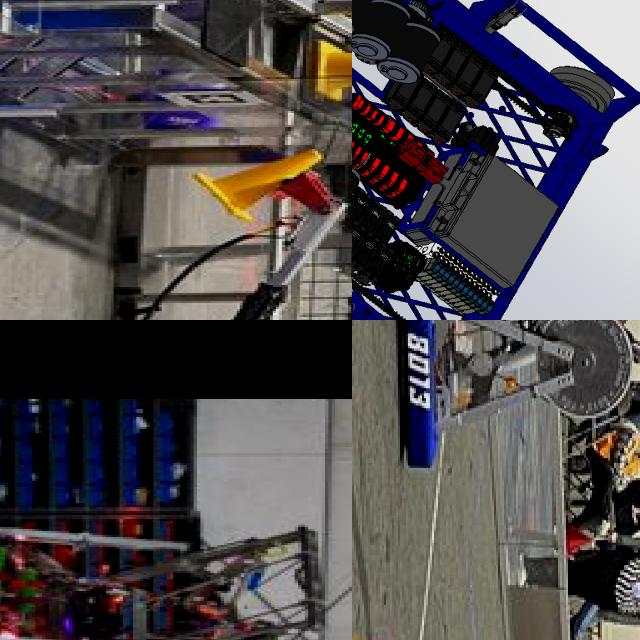FRC-Robots: (352, 0, 640, 320), (0, 133, 352, 320), (0, 483, 328, 640), (402, 320, 640, 500)
